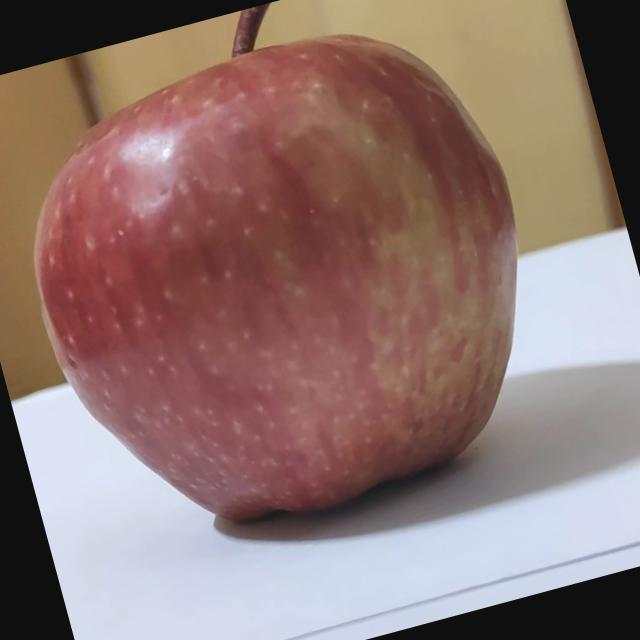apple: (0, 0, 583, 575)
